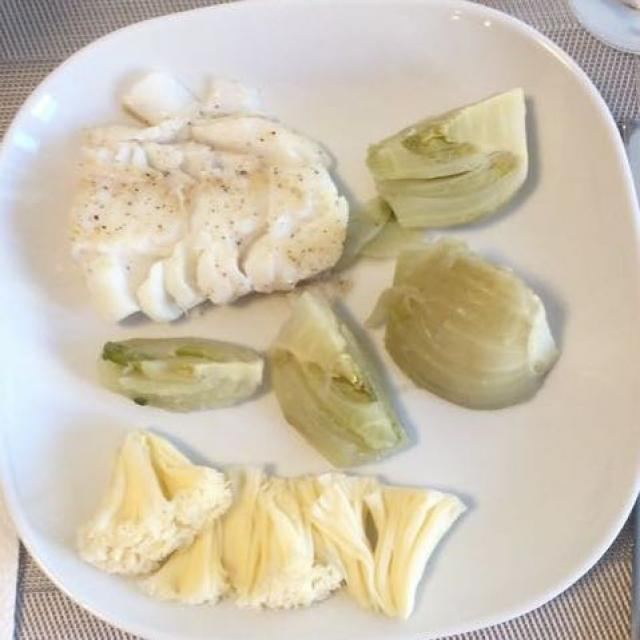cod: (65, 61, 350, 331)
fennel: (74, 53, 596, 470)
tete-de-moine: (89, 427, 521, 608)
